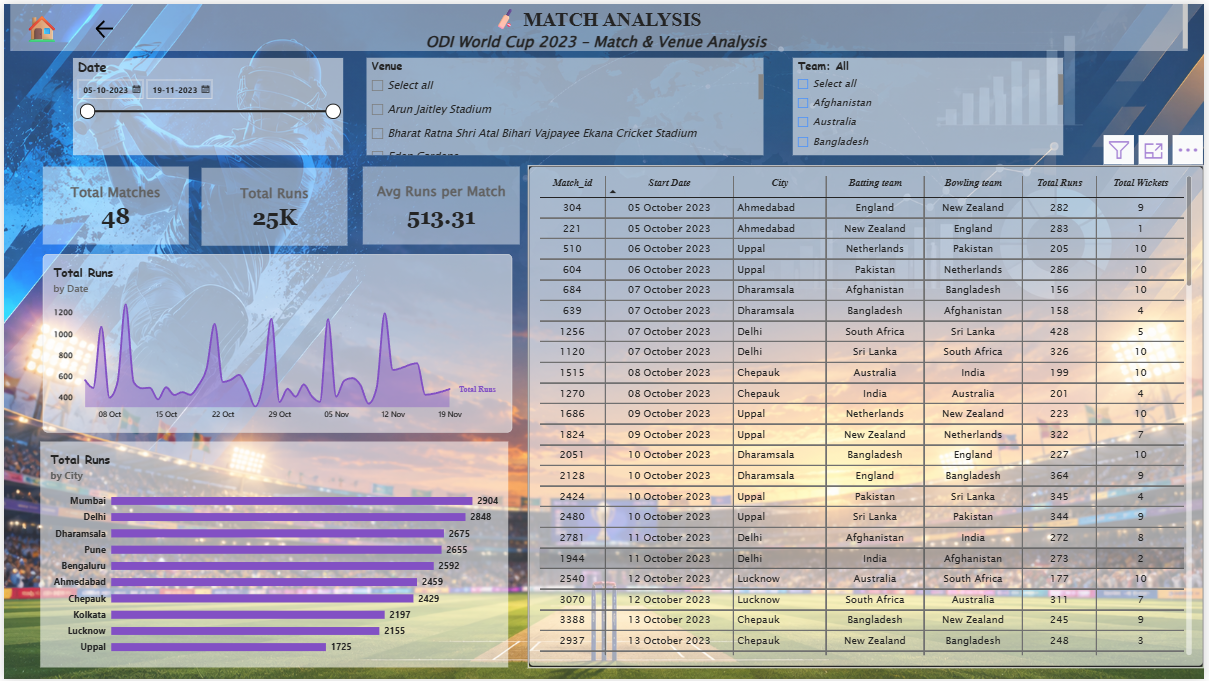

Layout of this report page (visuals, bound fields, positions):
{"tool":"powerbi","page":{"name":"MATCH ANALYSIS ","canvas":[1920,1080],"ordinal":3},"visuals":[{"type":"textbox","box":[9.2,0,1883.8,75.2],"z":0},{"type":"actionButton","box":[9.2,0,100.9,75.2],"z":1000},{"type":"actionButton","box":[111.9,14.7,99.5,52.5],"z":2000},{"type":"slicer","fields":{"Values":["Calender.Date"]},"box":[110.4,86.9,432.5,155.6],"z":3000},{"type":"slicer","fields":{"Values":["ODI 2023.venue"]},"box":[580.9,86.9,635.2,155.6],"z":4000},{"type":"slicer","fields":{"Values":["Teams.Team"]},"box":[1261.3,86.9,432.5,155.6],"z":5000},{"type":"cardVisual","fields":{"Data":["ODI 2023.Total Matches"]},"box":[61.2,259.5,233.4,124.9],"z":6000},{"type":"cardVisual","fields":{"Data":["ODI 2023.Total Runs"]},"box":[316.3,261.3,233.4,124.9],"z":7000},{"type":"cardVisual","fields":{"Data":["ODI 2023.Average Runs per Match"]},"box":[573.7,260.6,251.5,124.9],"z":8000},{"type":"lineChart","fields":{"Y":["ODI 2023.Total Runs"],"Category":["Calender.Date"]},"box":[61.5,399.9,751,285.9],"z":9000},{"type":"clusteredBarChart","fields":{"Y":["ODI 2023.Total Runs"],"Category":["ODI 2023.City"]},"box":[57.9,700.3,749.2,361.9],"z":10000},{"type":"tableEx","fields":{"Values":["Sum(ODI 2023.match_id)","ODI 2023.start_date","ODI 2023.City","ODI 2023.batting_team","ODI 2023.bowling_team","ODI 2023.Total Runs","ODI 2023.Total Wickets"]},"box":[837.9,258.8,1082.2,803.5],"z":11000}]}

Visuals, with their boxes in screenshot pixels (x1, y1, x2, y2), scaled from the page's 1920x1080 canvas onto the 1209x681 screenshot:
textbox: select_region(6, 0, 1192, 47)
actionButton: select_region(6, 0, 69, 47)
actionButton: select_region(70, 9, 133, 42)
slicer - Calender.Date: select_region(70, 55, 342, 153)
slicer - ODI 2023.venue: select_region(366, 55, 766, 153)
slicer - Teams.Team: select_region(794, 55, 1067, 153)
cardVisual - ODI 2023.Total Matches: select_region(39, 164, 186, 242)
cardVisual - ODI 2023.Total Runs: select_region(199, 165, 346, 244)
cardVisual - ODI 2023.Average Runs per Match: select_region(361, 164, 520, 243)
lineChart - ODI 2023.Total Runs x Calender.Date: select_region(39, 252, 512, 432)
clusteredBarChart - ODI 2023.Total Runs x ODI 2023.City: select_region(36, 442, 508, 670)
tableEx - Sum(ODI 2023.match_id) x ODI 2023.start_date: select_region(528, 163, 1208, 670)
